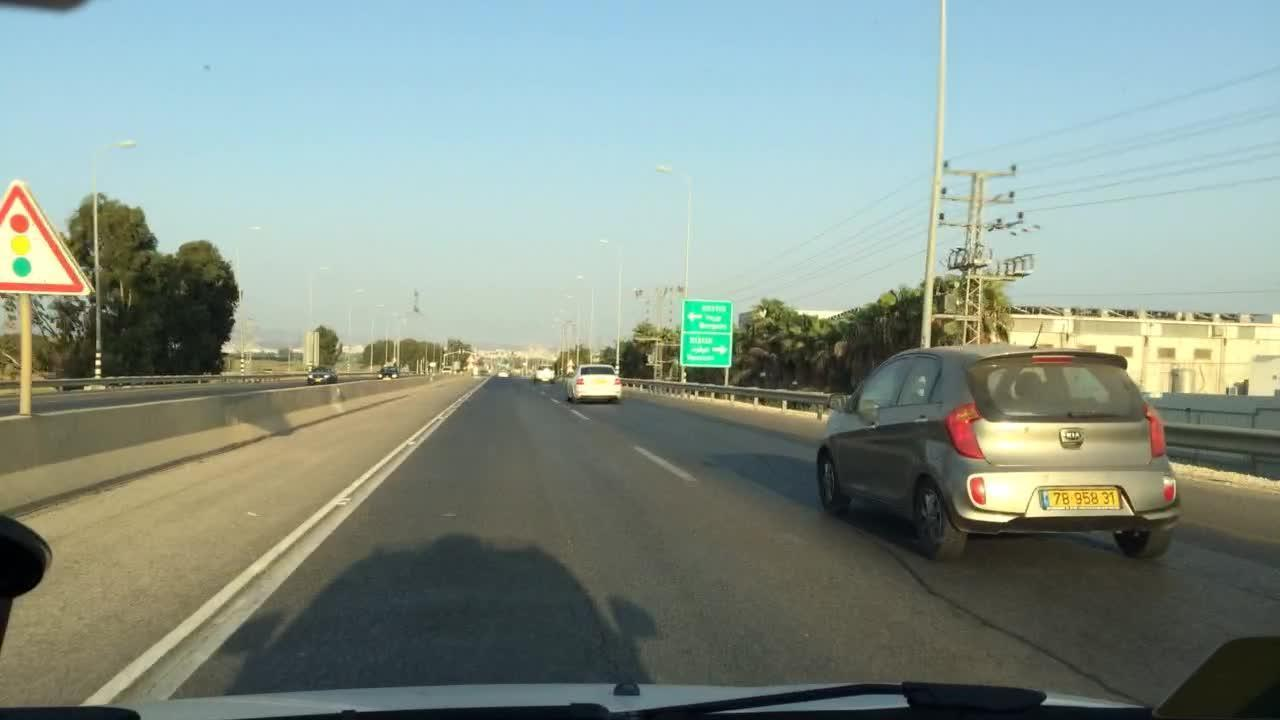kia: (1057, 426, 1083, 447)
